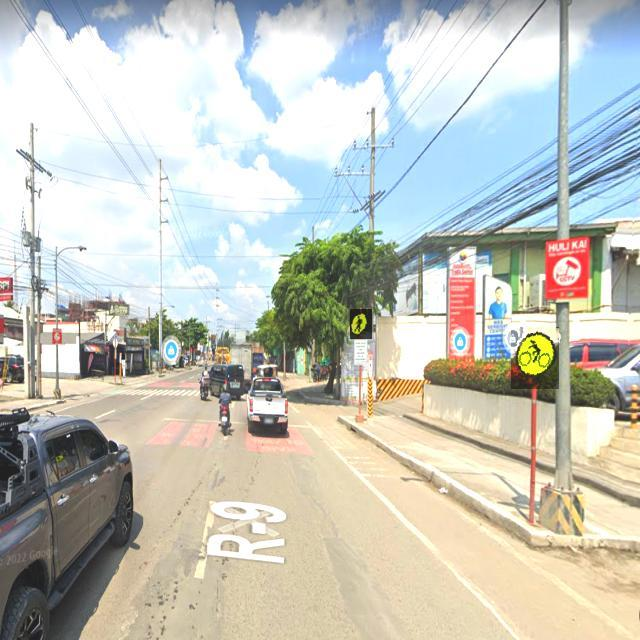bike lane: (511, 327, 559, 389)
pedestrian crossing: (350, 309, 372, 339)
